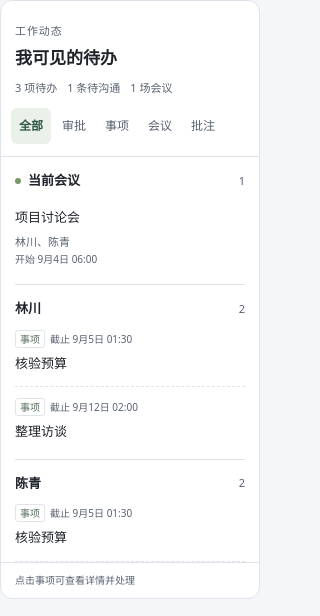
Test case: office activity rail › labels ordinary members by their actual visibility and filters approvals and tasks
Expected: the heading "我可见的待办" is shown, x1=15 y1=46 x2=117 y2=69
Click the button "审批".
click(74, 126)  # box x1=54 y1=108 x2=94 y2=144
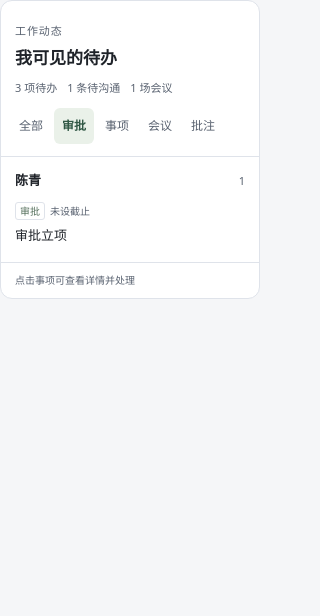
Result: the link "审批立项" is shown at x1=15 y1=226 x2=67 y2=244
Result: the link "整理访谈" is gone
Result: the link "项目讨论会" is gone
Click the button "事项".
click(117, 126)  # box x1=97 y1=108 x2=137 y2=144
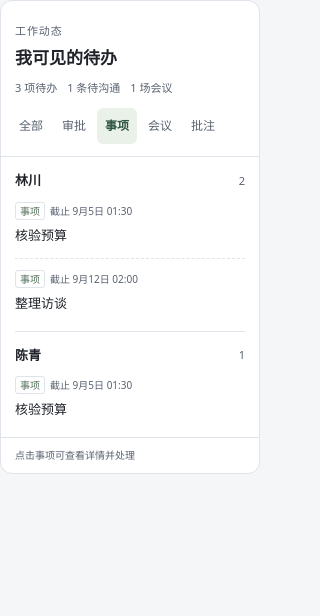
Result: the link "整理访谈" is shown at x1=15 y1=294 x2=67 y2=312
Result: the link "审批立项" is gone
